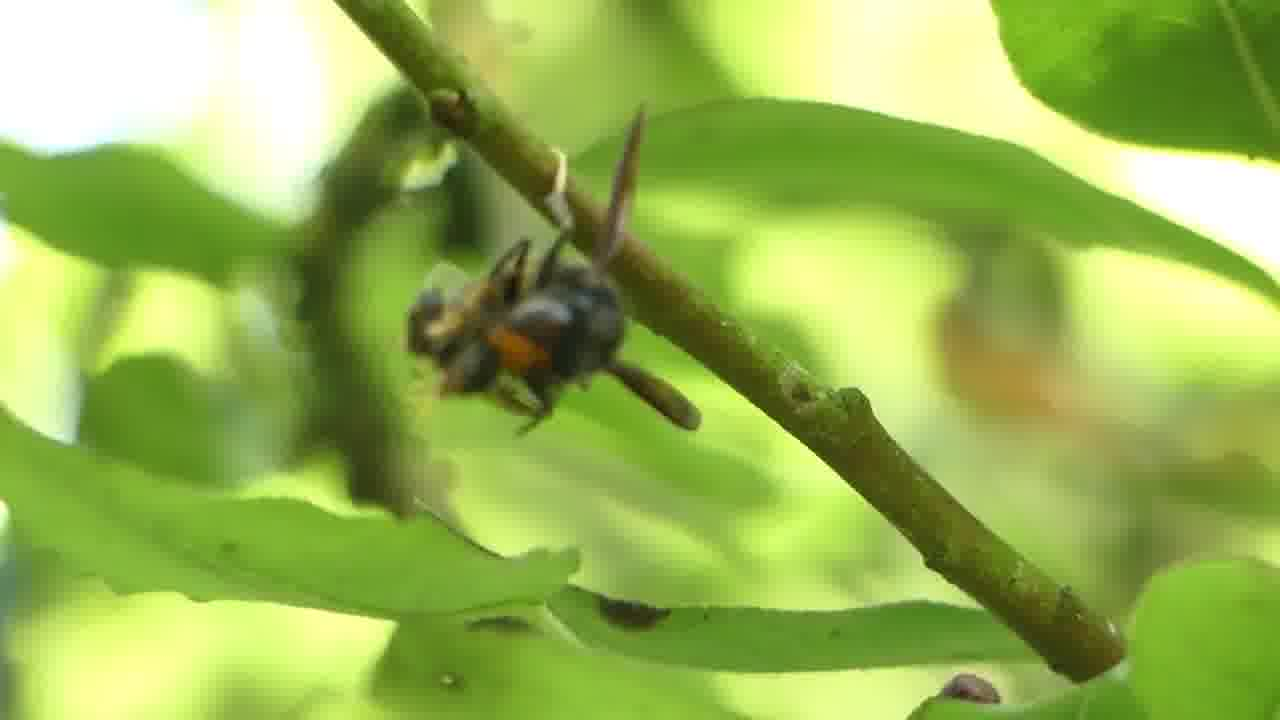hornet: (386, 237, 726, 439)
